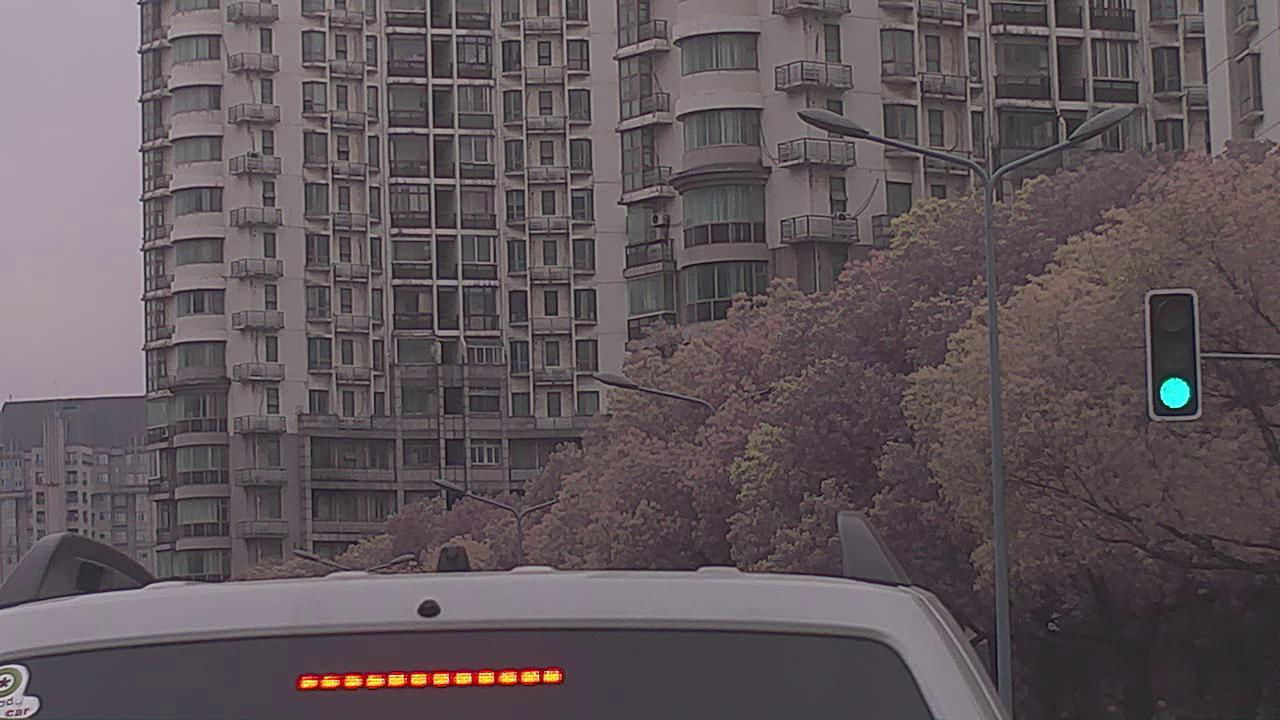traffic_light: (1145, 289, 1202, 422)
